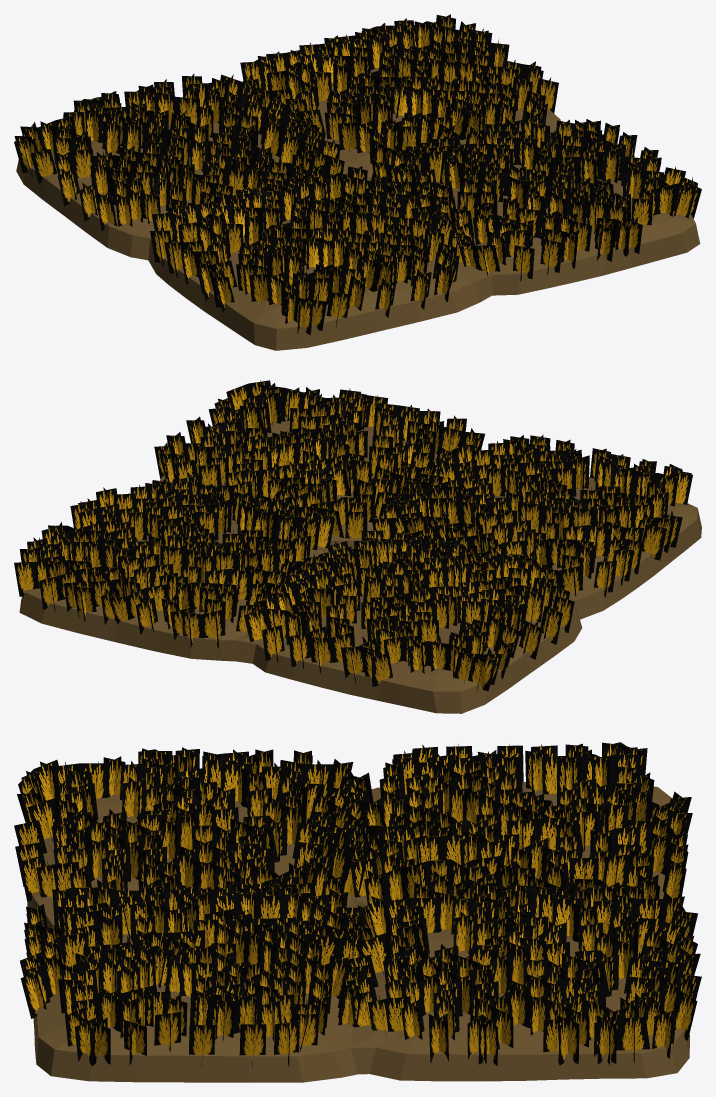
Rendered from hayfield 4x4.fbx.
3 renders of one model, top to bottom at view 1: azimuth 30°, elevation 25°; view 2: azimuth 150°, elevation 25°; view 3: azimuth 270°, elevation 25°, orthographic. The views are drawn at different scales.
Parts seen in each view (by area): view 1: hayfield4x4_LOD0; view 2: hayfield4x4_LOD0; view 3: hayfield4x4_LOD0.
Part boxes in pixels (bbox=[...]): hayfield4x4_LOD0: bbox=[14, 14, 701, 350]; hayfield4x4_LOD0: bbox=[14, 380, 701, 713]; hayfield4x4_LOD0: bbox=[14, 742, 701, 1082].
Size of what is drawn, in the model's own units: 43.09 by 5.14 by 43.24.
